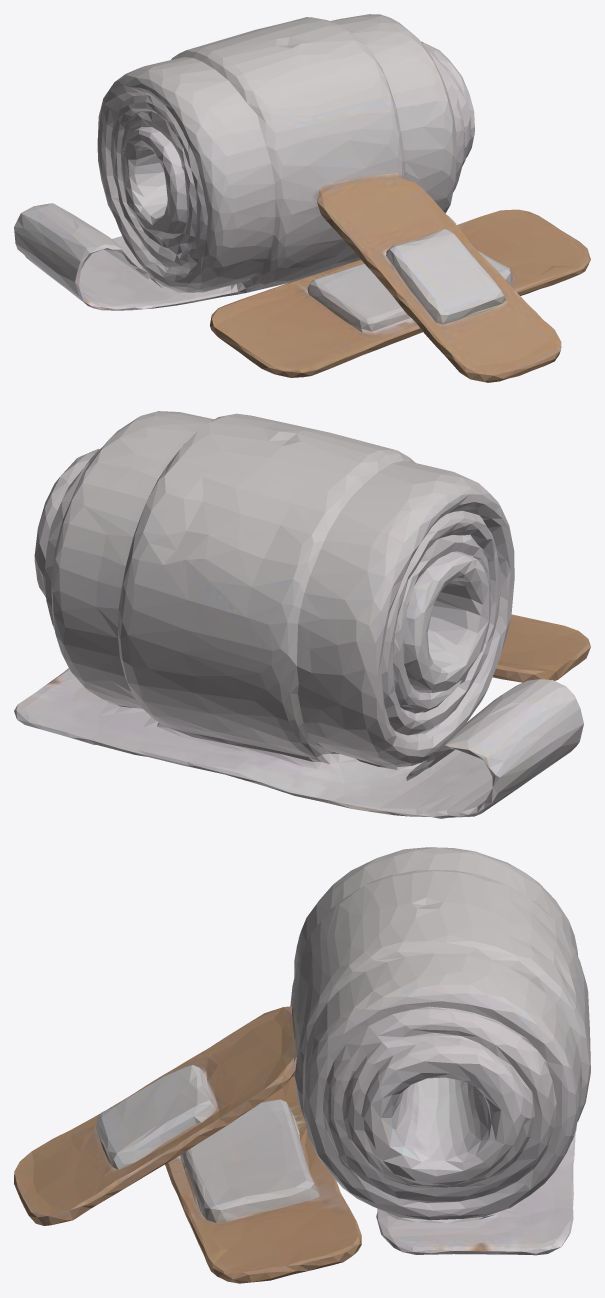
Rendered from bandage.glb.
3 views of the same model, one above another, from view 1: azimuth 30°, elevation 25°; view 2: azimuth 150°, elevation 25°; view 3: azimuth 270°, elevation 25° (orthographic). The views are drawn at different scales.
Parts seen in each view (by area): view 1: tmpx3h3jeic.ply; view 2: tmpx3h3jeic.ply; view 3: tmpx3h3jeic.ply.
Boxes of the visible parts, x1=… form: tmpx3h3jeic.ply: x1=14, y1=14, x2=590, y2=382; tmpx3h3jeic.ply: x1=14, y1=411, x2=590, y2=818; tmpx3h3jeic.ply: x1=14, y1=847, x2=590, y2=1283.
Bounding box in the file's own units: 2 × 0.96 × 1.89.
Materials: 1 (1 with a texture image).
